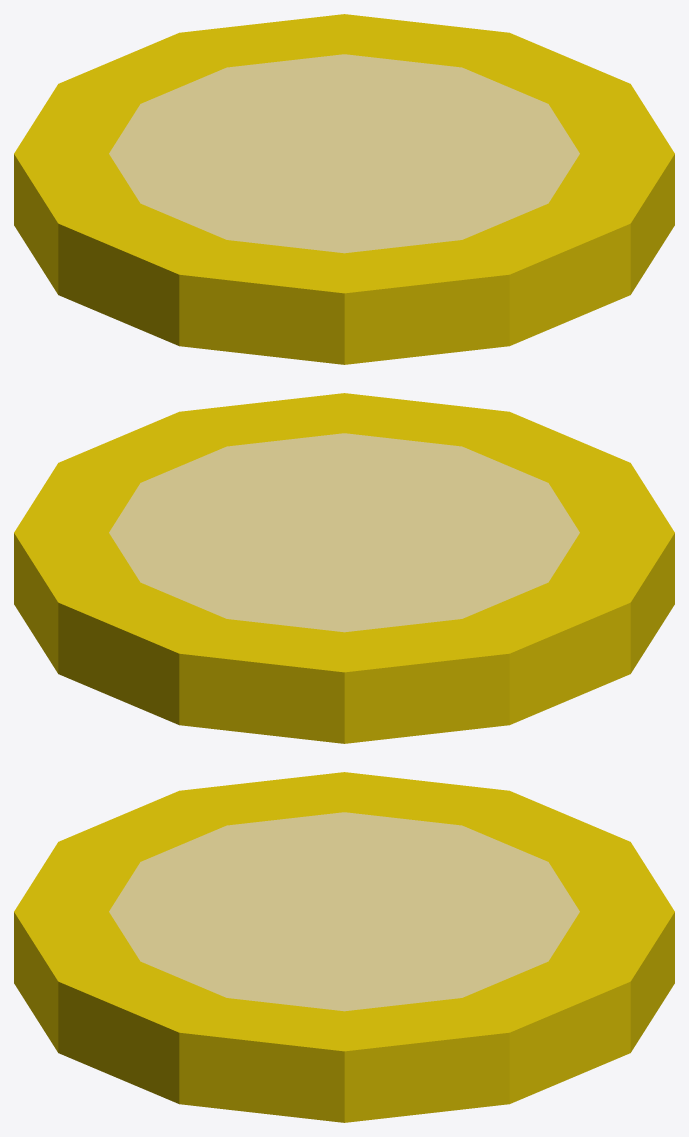
Rendered from coin.fbx.
3 renders of one model, top to bottom at view 1: azimuth 30°, elevation 25°; view 2: azimuth 150°, elevation 25°; view 3: azimuth 270°, elevation 25°, orthographic.
Visible parts, largest first — view 1: pCylinder1; view 2: pCylinder1; view 3: pCylinder1.
Part boxes in pixels (x1,y1,x2,y2): pCylinder1: [14, 14, 674, 364]; pCylinder1: [14, 393, 674, 743]; pCylinder1: [14, 772, 674, 1122].
Size of the model in its own units: 22.7 by 2.71 by 22.7.
